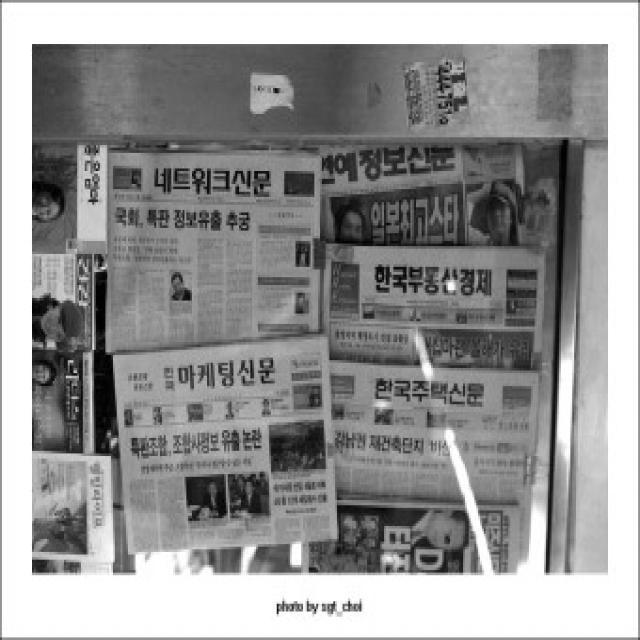reuseable_paper: (316, 226, 548, 502), (100, 327, 344, 541), (115, 153, 318, 359)
